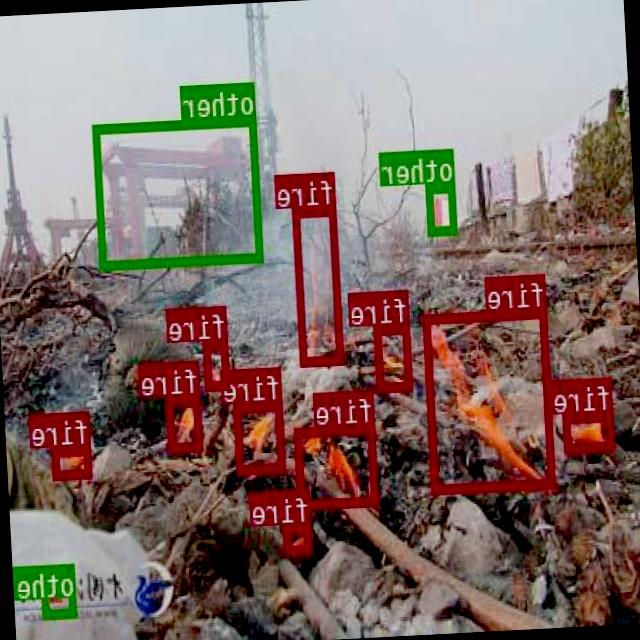fire: (424, 308, 558, 492), (294, 205, 346, 364), (296, 422, 379, 509), (234, 400, 286, 472), (375, 322, 415, 390), (564, 411, 616, 452), (168, 393, 204, 450), (54, 443, 94, 478), (204, 339, 232, 388), (285, 523, 314, 554)
